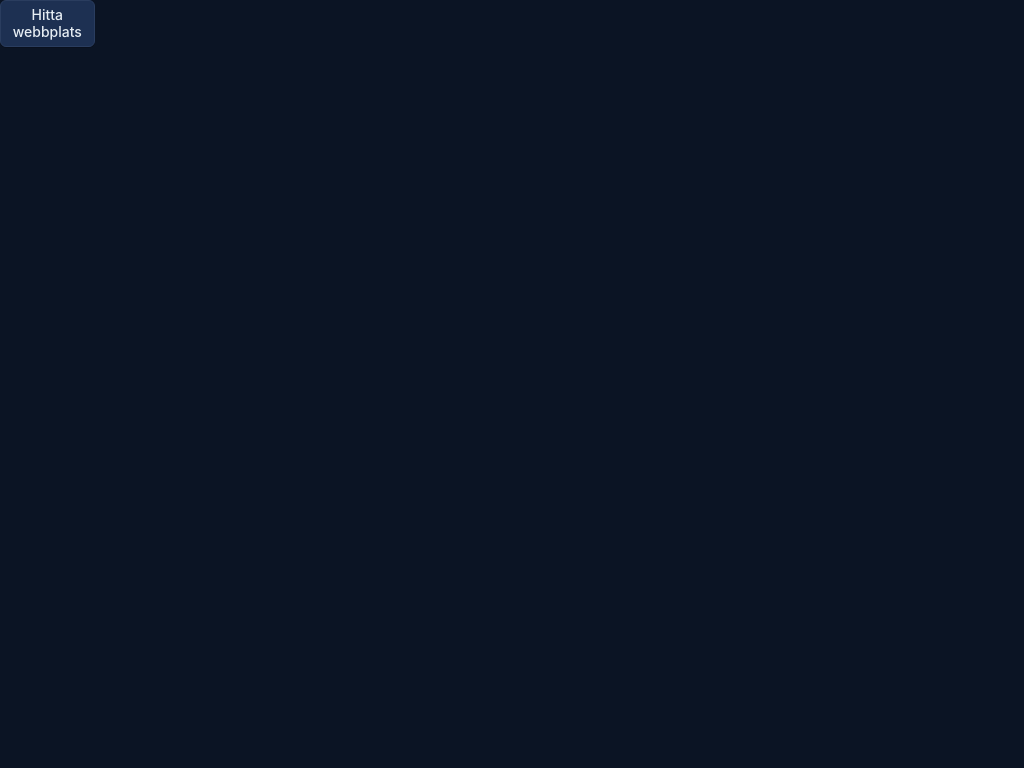
Test: FindWebsiteAction › marks a company without a website and closes the dialog
This screenshot has width=1024, height=768.
Click the button "Hitta webbplats" at (47, 23), box 0,0 -> 94,47
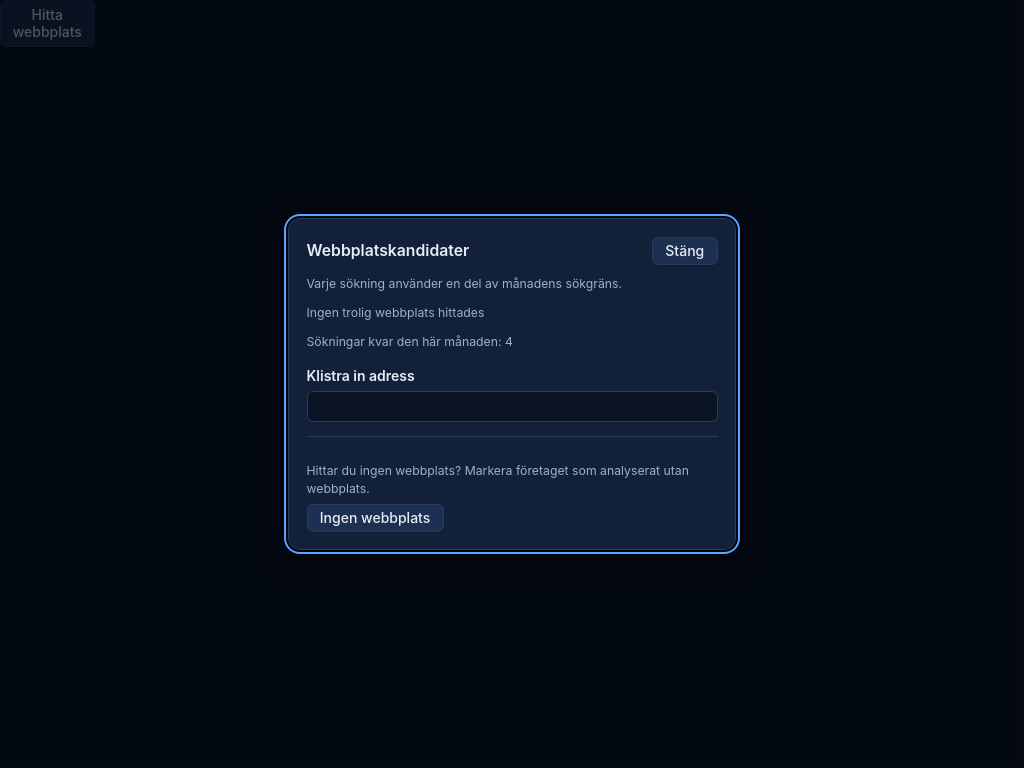
expect the text "Ingen trolig webbplats hittades" is shown: met, box 306,305 -> 484,320
Click the button "Ingen webbplats" at (375, 518), box 306,504 -> 444,532
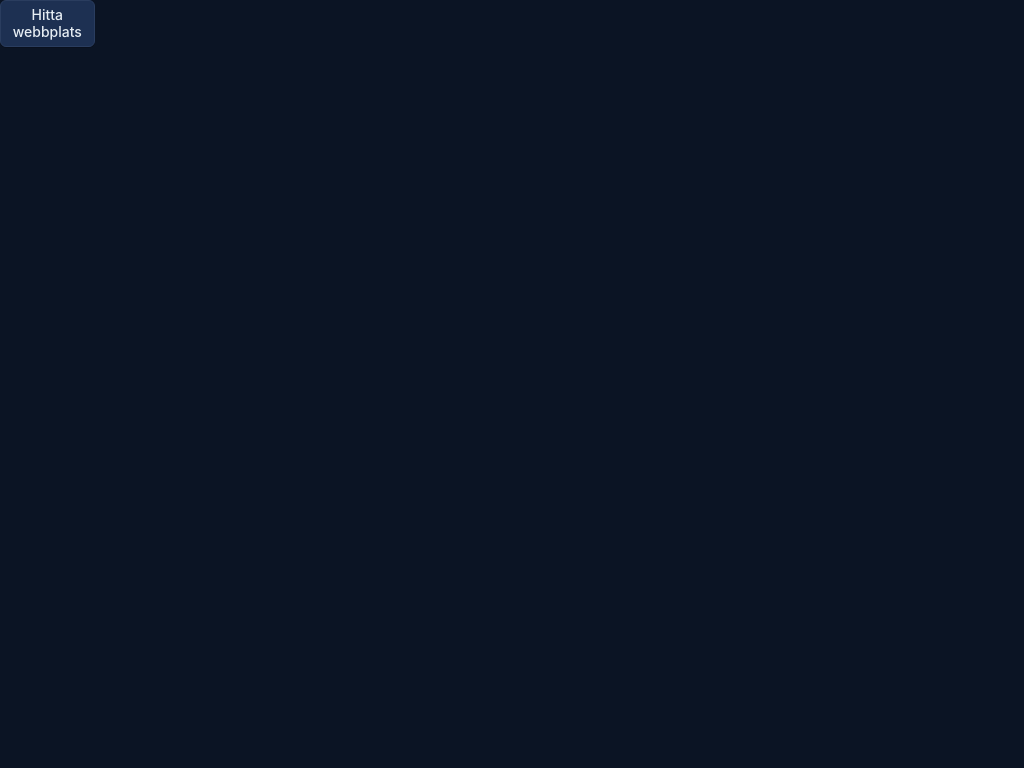
expect the dialog is gone: met
